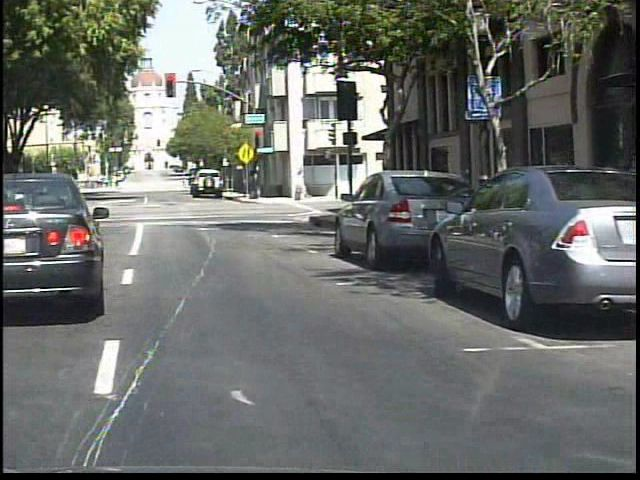person: (14, 173, 34, 210), (2, 175, 20, 212)
